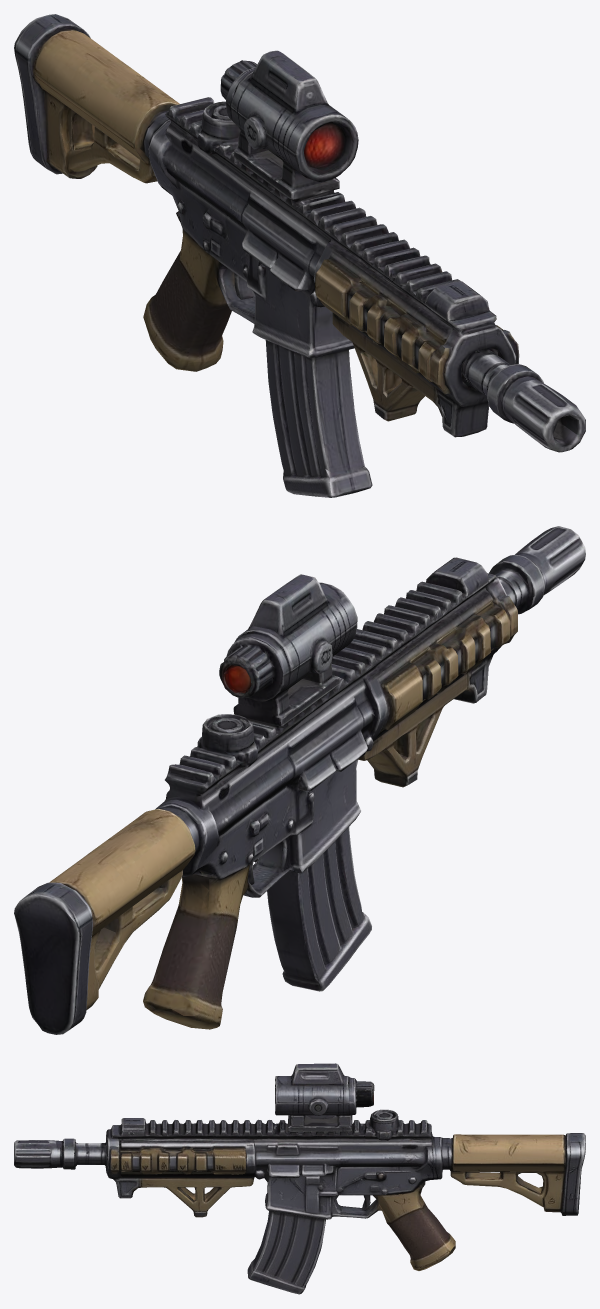
Rendered from scoped_tactical.medium.glb.
3 renders of one model, top to bottom at view 1: azimuth 30°, elevation 25°; view 2: azimuth 150°, elevation 25°; view 3: azimuth 270°, elevation 25°, orthographic. The views are drawn at different scales.
Parts seen in each view (by area): view 1: model; view 2: model; view 3: model.
Part boxes in pixels (x1=…): model: x1=14, y1=14, x2=585, y2=497; model: x1=14, y1=526, x2=585, y2=1034; model: x1=14, y1=1063, x2=585, y2=1294.
Size of the model in its own units: 0.0726 by 0.3387 by 0.78.
Materials: 1 (1 with a texture image).
